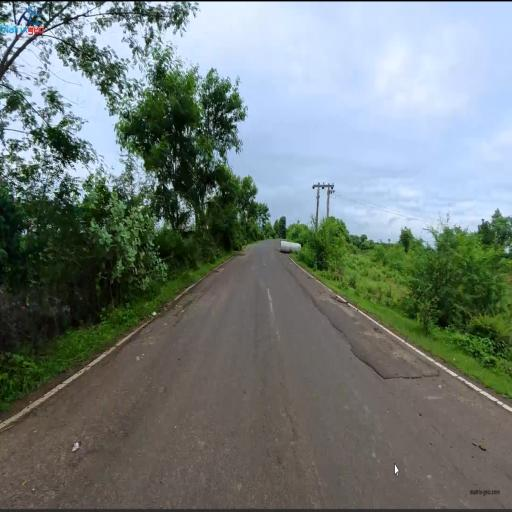ravelling: (317, 332, 396, 426)
